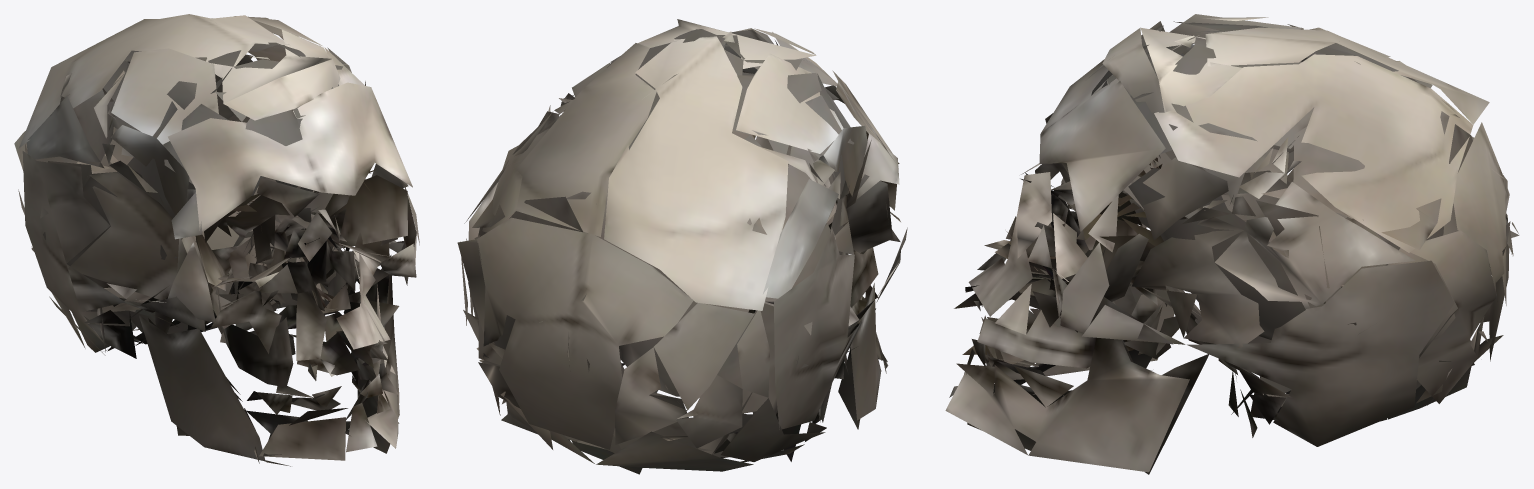
Rendered from dre_crypt_skull.glb.
3 renders of one model, left to right at view 1: azimuth 30°, elevation 25°; view 2: azimuth 150°, elevation 25°; view 3: azimuth 270°, elevation 25°, orthographic. The views are drawn at different scales.
Parts seen in each view (by area): view 1: MetricPlacement; view 2: MetricPlacement; view 3: MetricPlacement.
Part boxes in pixels (x1,y1,x2,y2): MetricPlacement: [14, 14, 419, 466]; MetricPlacement: [457, 19, 907, 474]; MetricPlacement: [945, 14, 1519, 474].
Bounding box in the file's own units: 0.2048 × 0.23 × 0.3055.
Materials: 1 (1 with a texture image).
